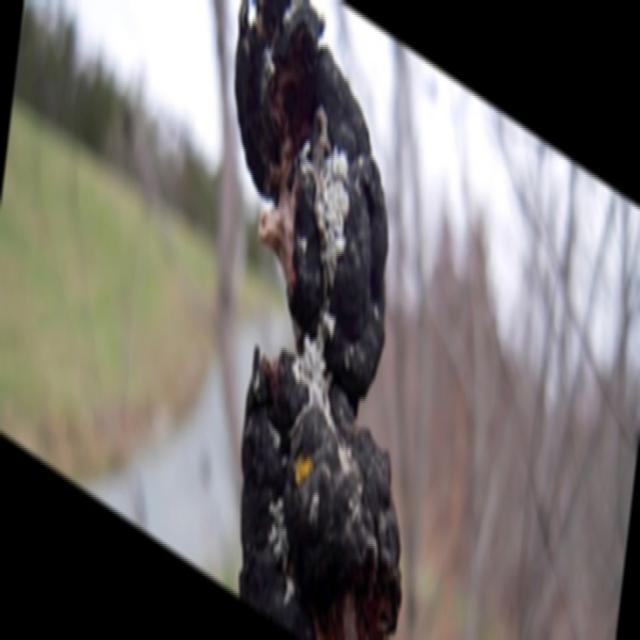Black_knot: (232, 0, 404, 638)
